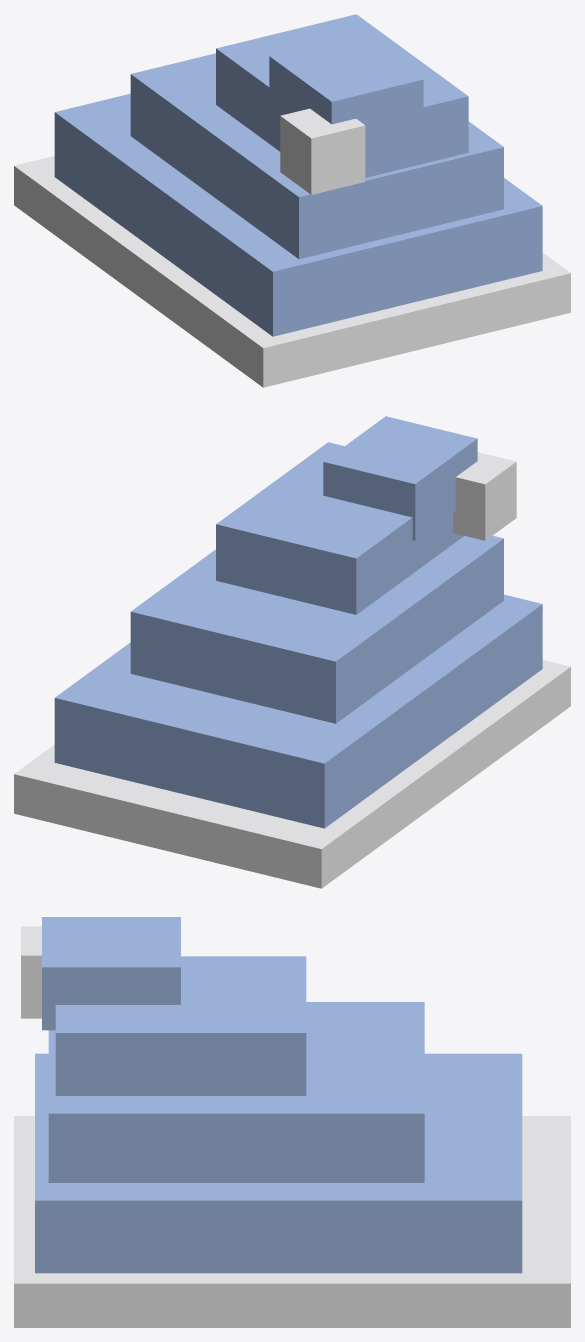
The model's file is gorro_dormir.glb.
3 views of the same model, one above another, from view 1: azimuth 30°, elevation 25°; view 2: azimuth 150°, elevation 25°; view 3: azimuth 270°, elevation 25° (orthographic). The views are drawn at different scales.
Visible parts, largest first — view 1: gorro_dormir; view 2: gorro_dormir; view 3: gorro_dormir.
Part boxes in pixels (x1,y1,x2,y2): gorro_dormir: [14, 14, 570, 387]; gorro_dormir: [14, 416, 570, 888]; gorro_dormir: [14, 917, 570, 1327].
Size of the model in its own units: 0.57 by 0.455 by 0.8.
